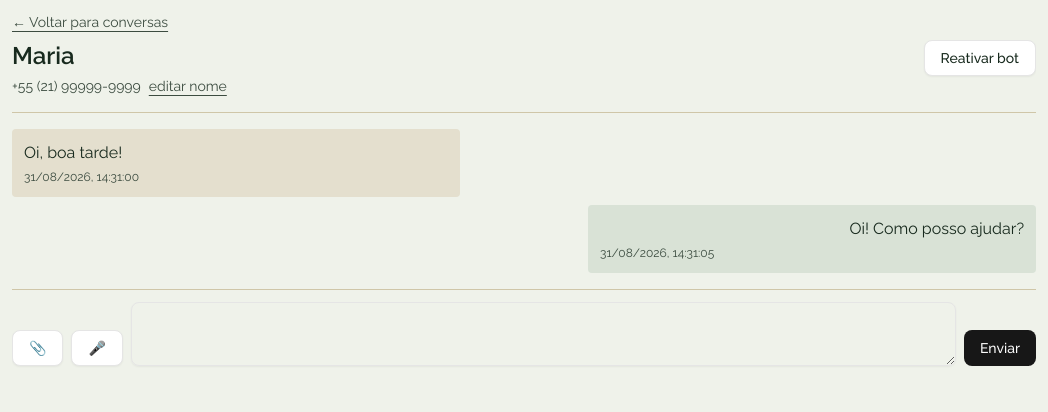
Test: ConversaDetailPage › shows an inline error when reactivating fails
Click the button "Reativar bot". click: (980, 58)
box: [924,40,1036,76]
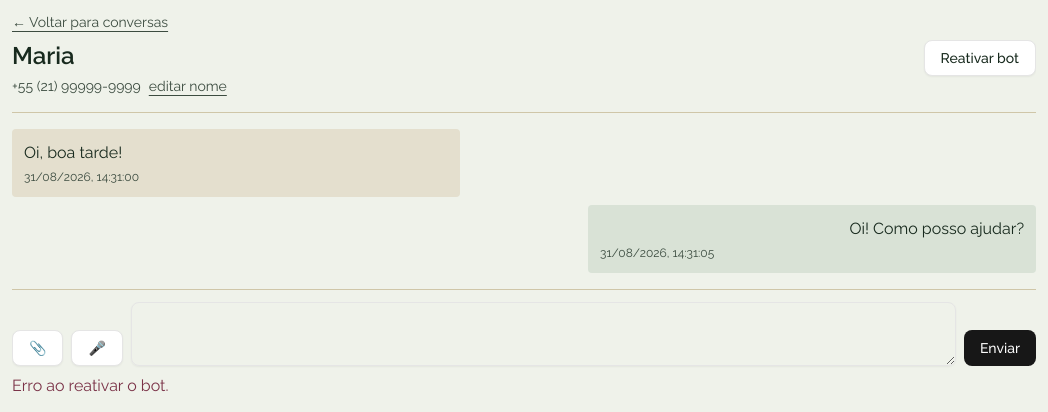
Expected: the message reads "Erro ao reativar o bot.", [12,376,168,395]
